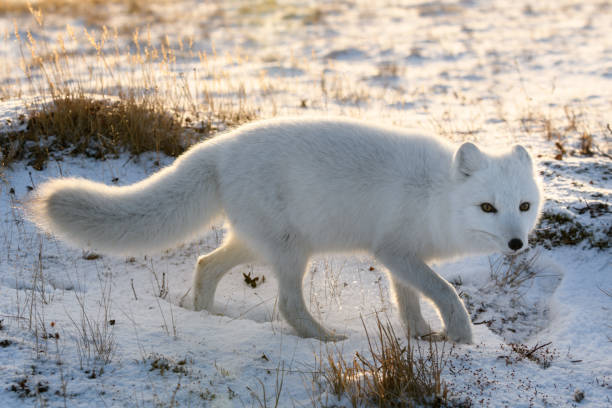arcticfox: (458, 168, 529, 263)
